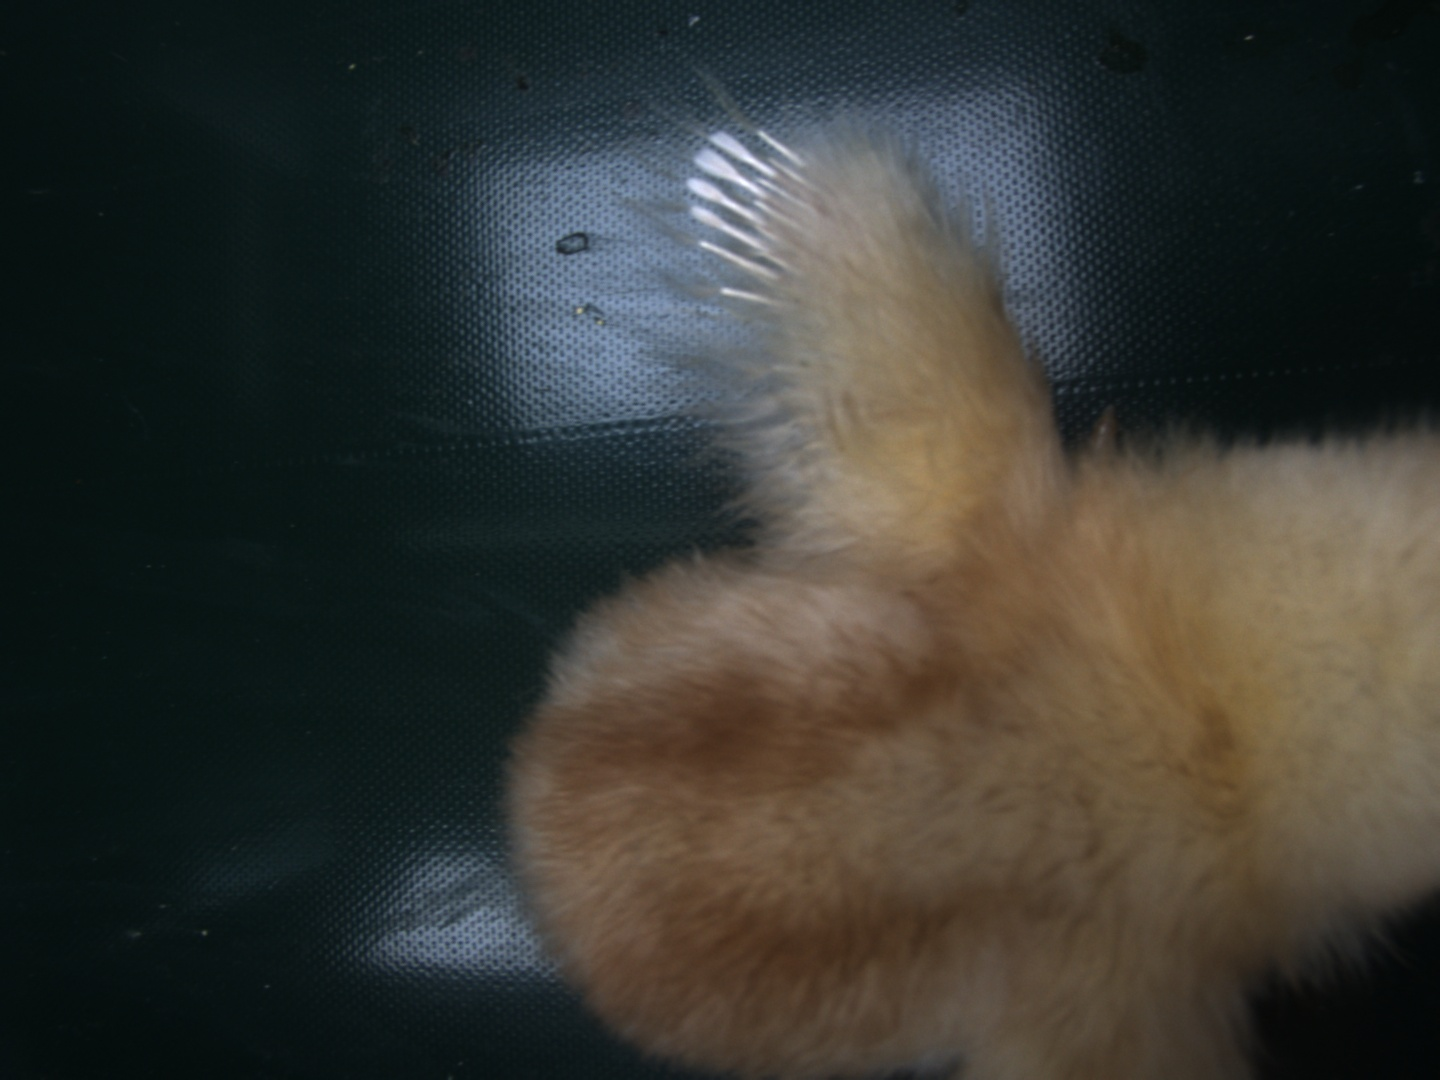female: (681, 124, 842, 314)
